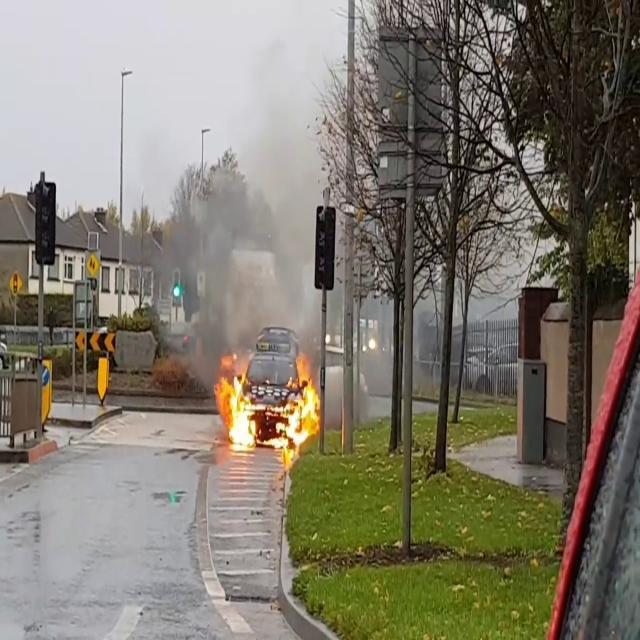Fire: (214, 357, 324, 453)
Smoke: (170, 118, 324, 360)
